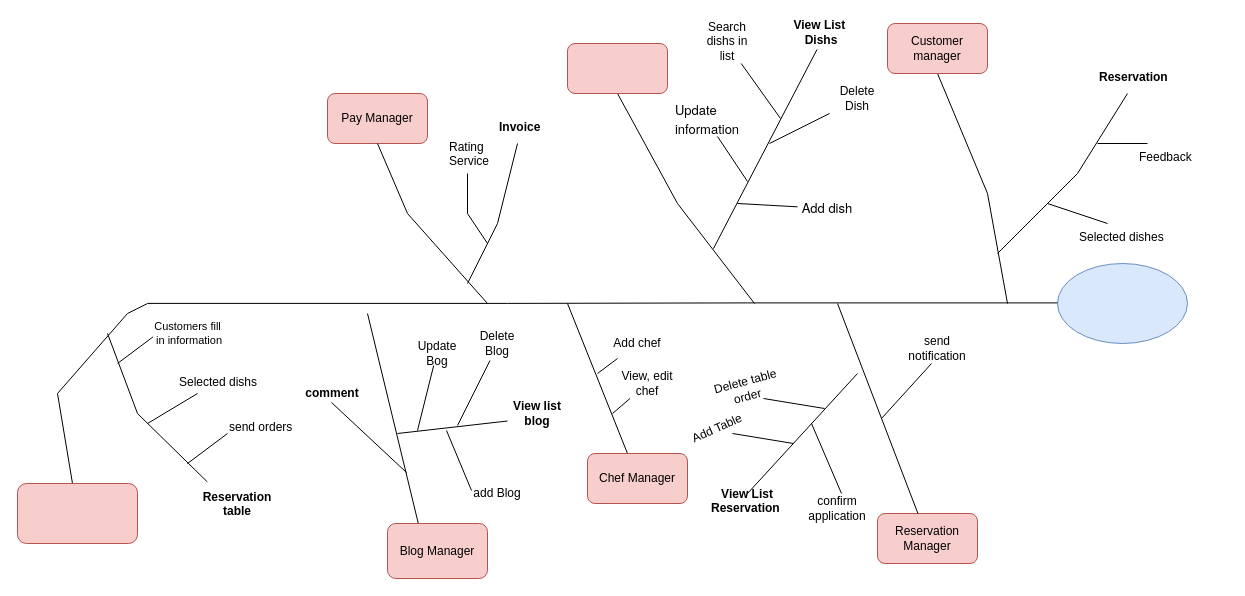
The diagram is 1245 pixels wide and 596 high, and some of its shapes have lost their labels. Each missing label, with the centre of its shape:
"Dishs Manager" goes at point 617,68.
"Reservation table Oparations" goes at point 77,513.
"Reservation table system" goes at point 1122,303.
